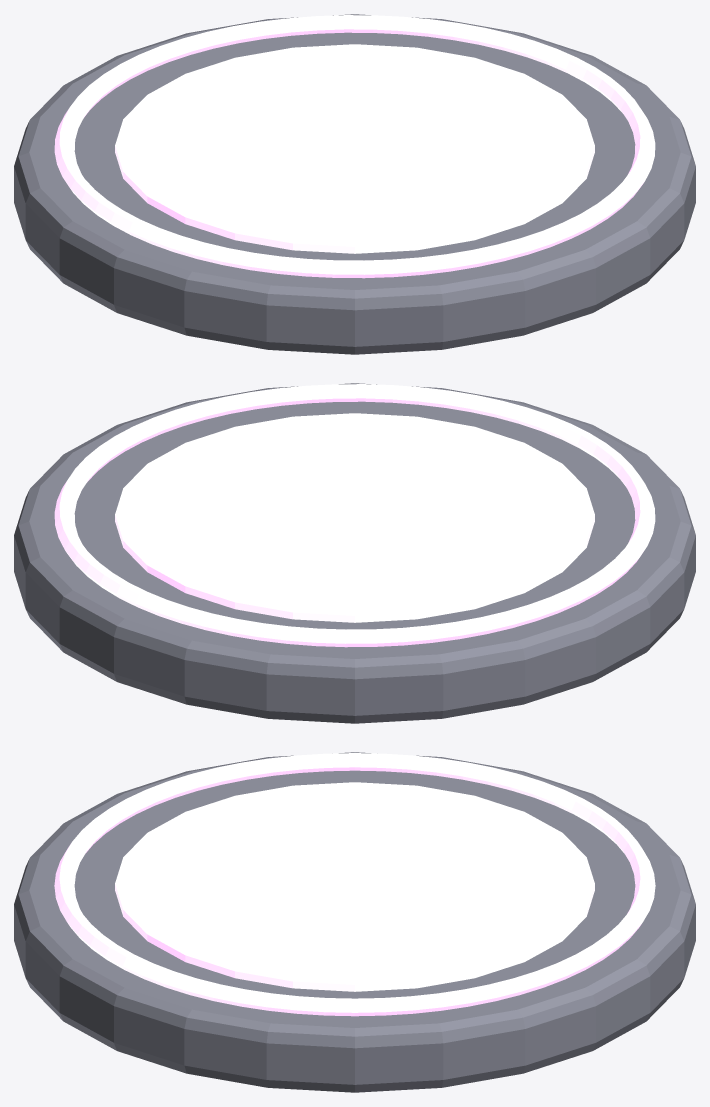
File: pad.glb
3 views of the same model, one above another, from view 1: azimuth 30°, elevation 25°; view 2: azimuth 150°, elevation 25°; view 3: azimuth 270°, elevation 25° (orthographic).
Parts seen in each view (by area): view 1: Cylinder; view 2: Cylinder; view 3: Cylinder.
Boxes of the visible parts, <box> form: Cylinder: <box>14,14,695,354</box>; Cylinder: <box>14,383,695,723</box>; Cylinder: <box>14,752,695,1092</box>.
Bounding box in the file's own units: 2.7 × 0.3346 × 2.7.
